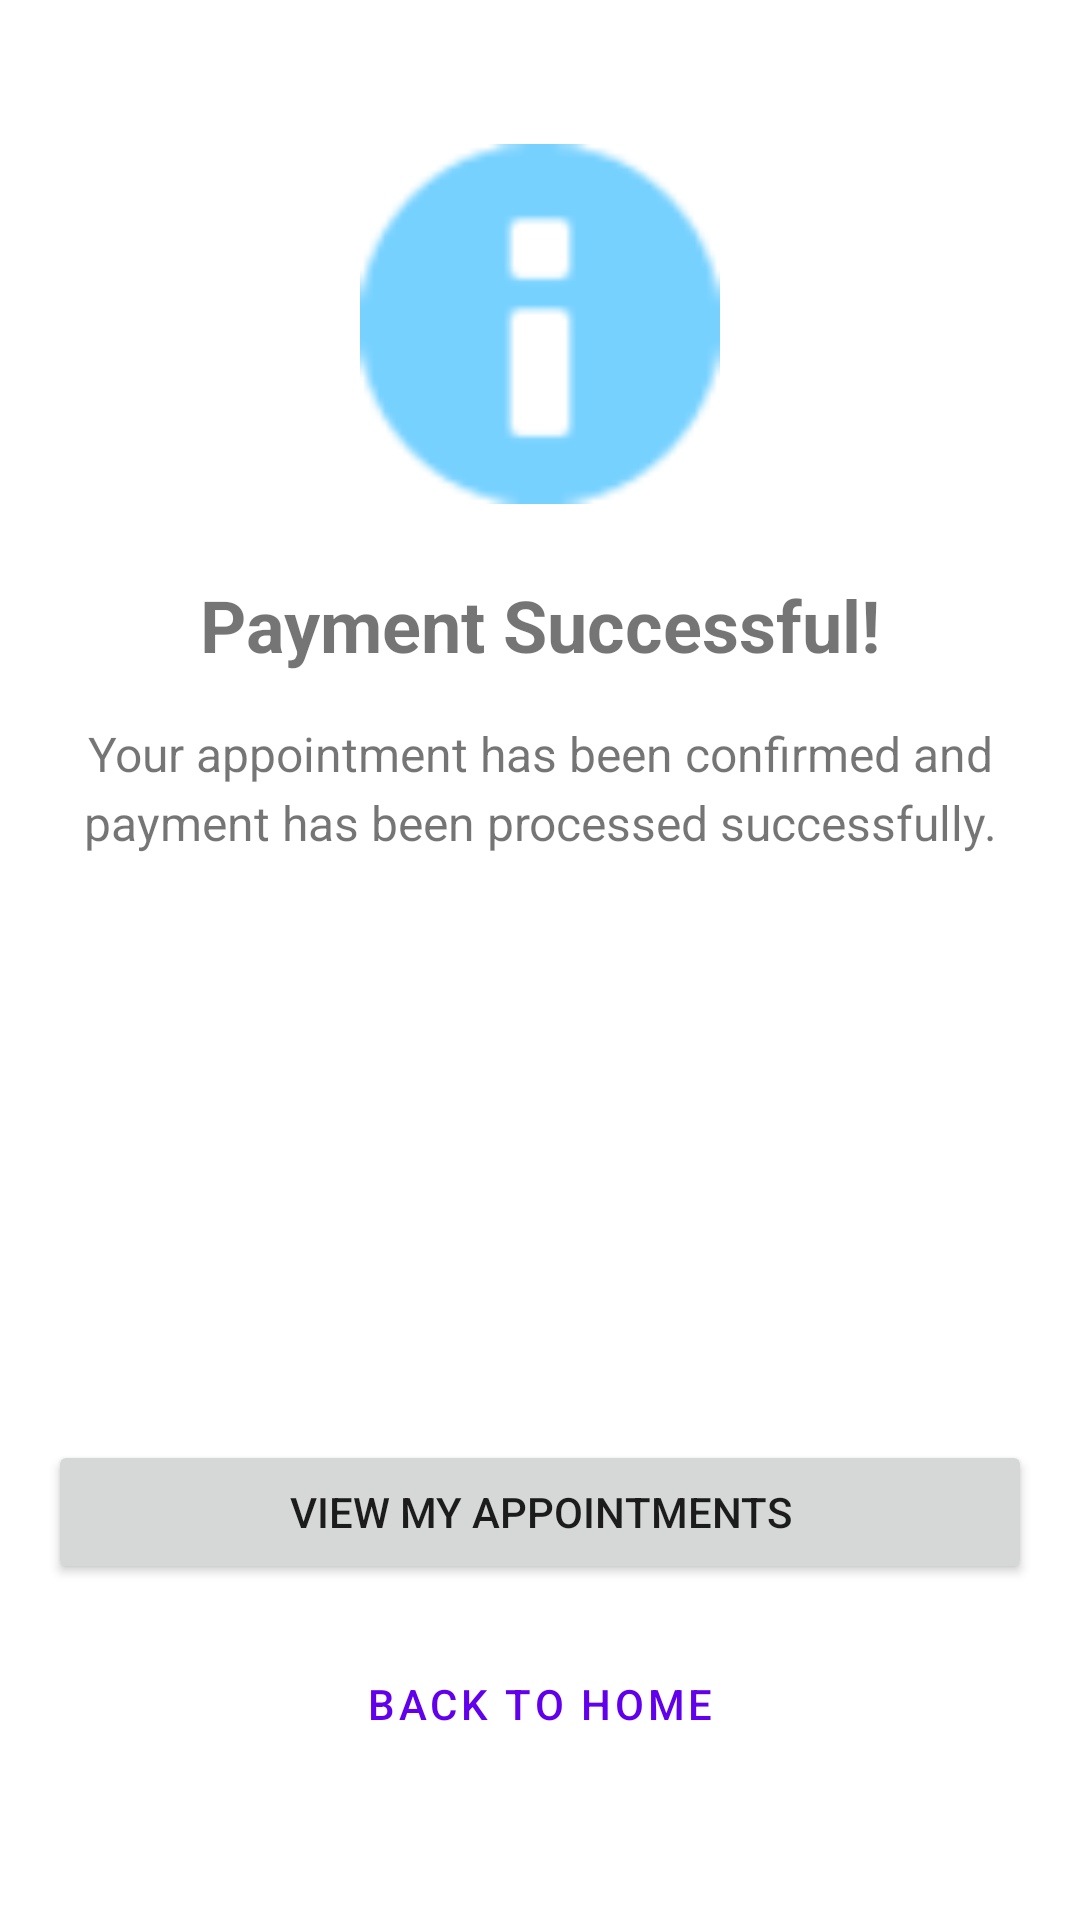

Named icons in this screenshot (1080w x 1920h) and their centers, (x=x, y=y):
info: (x=540, y=324)
